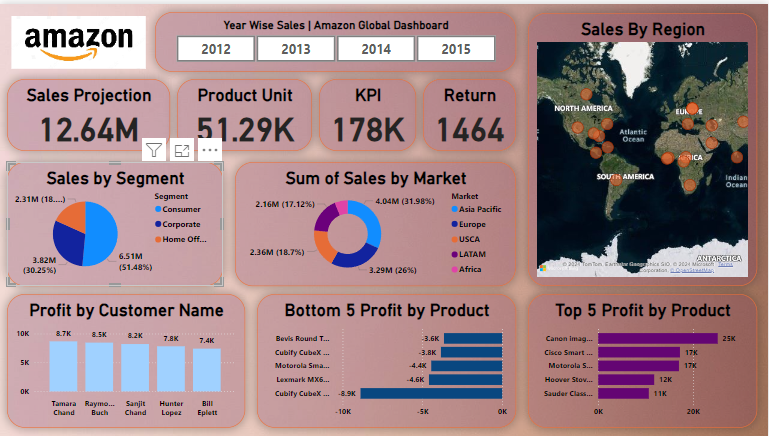

The dashboard page shown, as its layout file describes it:
{"tool":"powerbi","page":{"name":"Page 1","canvas":[1280,720],"ordinal":0},"visuals":[{"type":"slicer","title":"Year Wise Sales | Amazon Global Dashboard","fields":{"Values":["Orders.Year"]},"box":[258.3,13.3,601.7,100],"z":0},{"type":"card","title":" Sales Projection","fields":{"Values":["Orders.Sales"]},"box":[11.7,125,271.7,120],"z":1},{"type":"image","box":[0,15,261.7,98.3],"z":2},{"type":"card","title":"Product Unit","fields":{"Values":["Orders.Product Name"]},"box":[295,125,225,120],"z":3},{"type":"card","title":"KPI","fields":{"Values":["Orders.Quantity"]},"box":[531.7,125,161.7,120],"z":4},{"type":"card","title":"Return","fields":{"Values":["Orders.Ship Date"]},"box":[705,125,155,120],"z":5},{"type":"pieChart","title":"Sales by Segment","fields":{"Category":["Orders.Segment"],"Y":["Orders.Sales"]},"box":[11.7,263.3,360,206.7],"z":6},{"type":"donutChart","fields":{"Category":["Orders.Market"],"Y":["Orders.Sales"]},"box":[391.7,263.3,468.3,206.7],"z":7},{"type":"columnChart","title":"Profit by Customer Name","fields":{"Y":["Orders.Profit"],"Category":["Orders.Customer Name"]},"box":[11.7,483.3,396.7,223.3],"z":8},{"type":"clusteredBarChart","title":"Bottom 5 Profit by Product","fields":{"Y":["Orders.Profit"],"Category":["Orders.Product Name"]},"box":[428.3,483.3,431.7,223.3],"z":9},{"type":"clusteredBarChart","title":"Top 5 Profit by Product","fields":{"Category":["Orders.Product Name"],"Y":["Orders.Profit"]},"box":[880,483.3,381.7,223.3],"z":10},{"type":"map","title":"Sales By Region","fields":{"Category":["Orders.Region"]},"box":[880,15,381.7,455],"z":11}]}

Visuals, with their boxes in screenshot pixels (x1, y1, x2, y2), scaled from the page's 1280x720 canvas onto the 769x436 screenshot:
"Year Wise Sales | Amazon Global Dashboard" slicer: pyautogui.locateOnScreen(155, 8, 517, 69)
" Sales Projection" card: pyautogui.locateOnScreen(7, 76, 170, 148)
image: pyautogui.locateOnScreen(0, 9, 157, 69)
"Product Unit" card: pyautogui.locateOnScreen(177, 76, 312, 148)
"KPI" card: pyautogui.locateOnScreen(319, 76, 417, 148)
"Return" card: pyautogui.locateOnScreen(424, 76, 517, 148)
"Sales by Segment" pieChart: pyautogui.locateOnScreen(7, 159, 223, 285)
donutChart - Orders.Market x Orders.Sales: pyautogui.locateOnScreen(235, 159, 517, 285)
"Profit by Customer Name" columnChart: pyautogui.locateOnScreen(7, 293, 245, 428)
"Bottom 5 Profit by Product" clusteredBarChart: pyautogui.locateOnScreen(257, 293, 517, 428)
"Top 5 Profit by Product" clusteredBarChart: pyautogui.locateOnScreen(529, 293, 758, 428)
"Sales By Region" map: pyautogui.locateOnScreen(529, 9, 758, 285)
